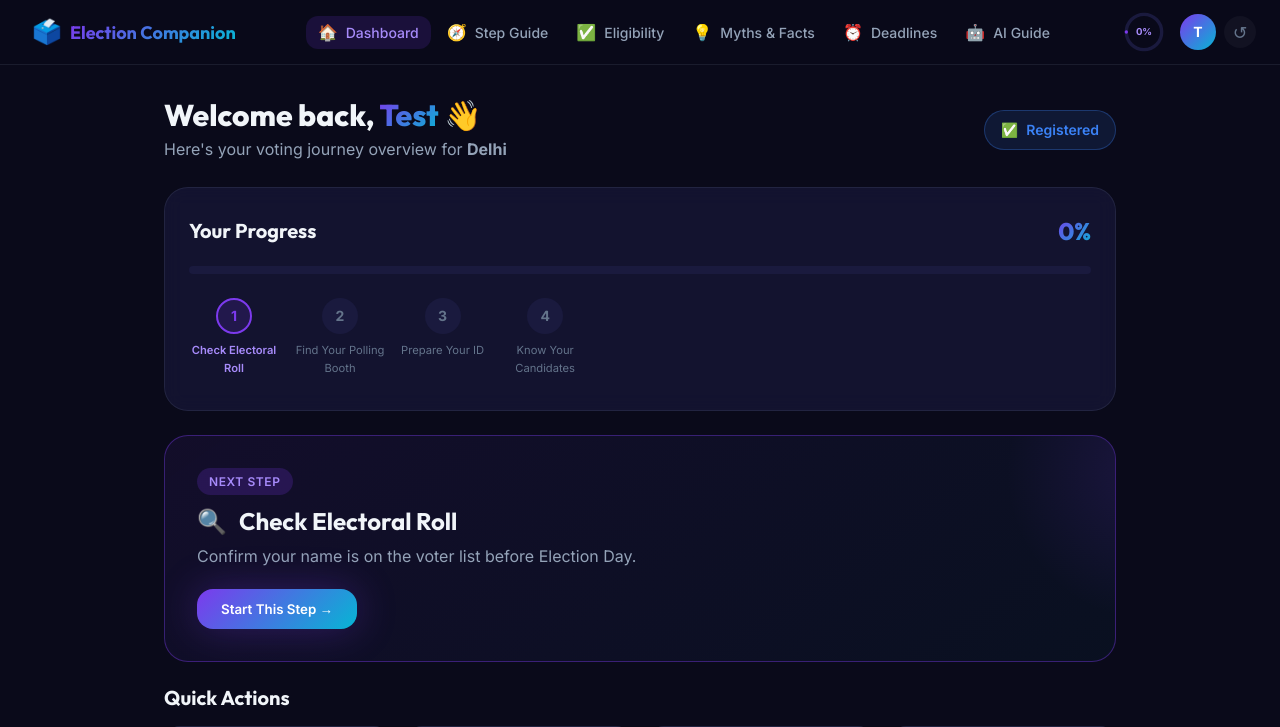
Test: Integration: Full User Journey › reset clears user data and returns to landing
The width and height of the screenshot is (1280, 727).
Click the button named "Reset profile and start over".
click(1240, 32)  # box [1224,16,1256,48]
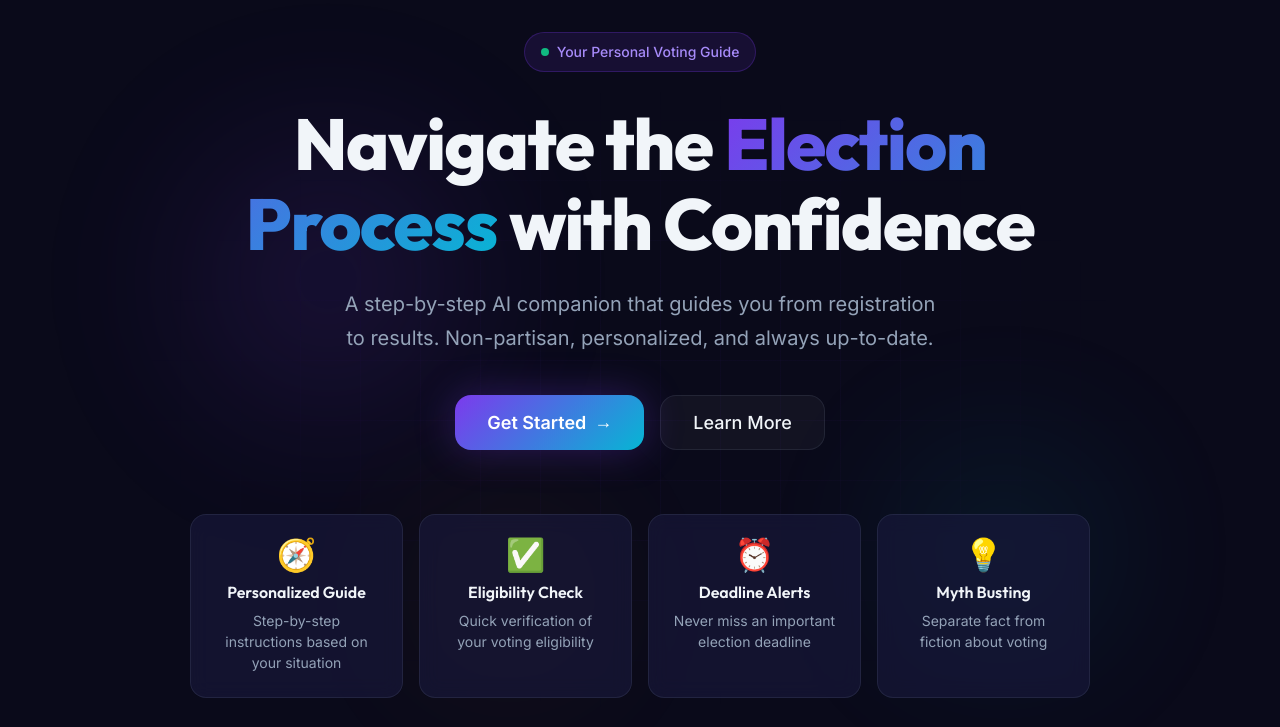
Expected: the heading "Navigate the Election Process with Confidence" is shown, [190,104,1090,263]
